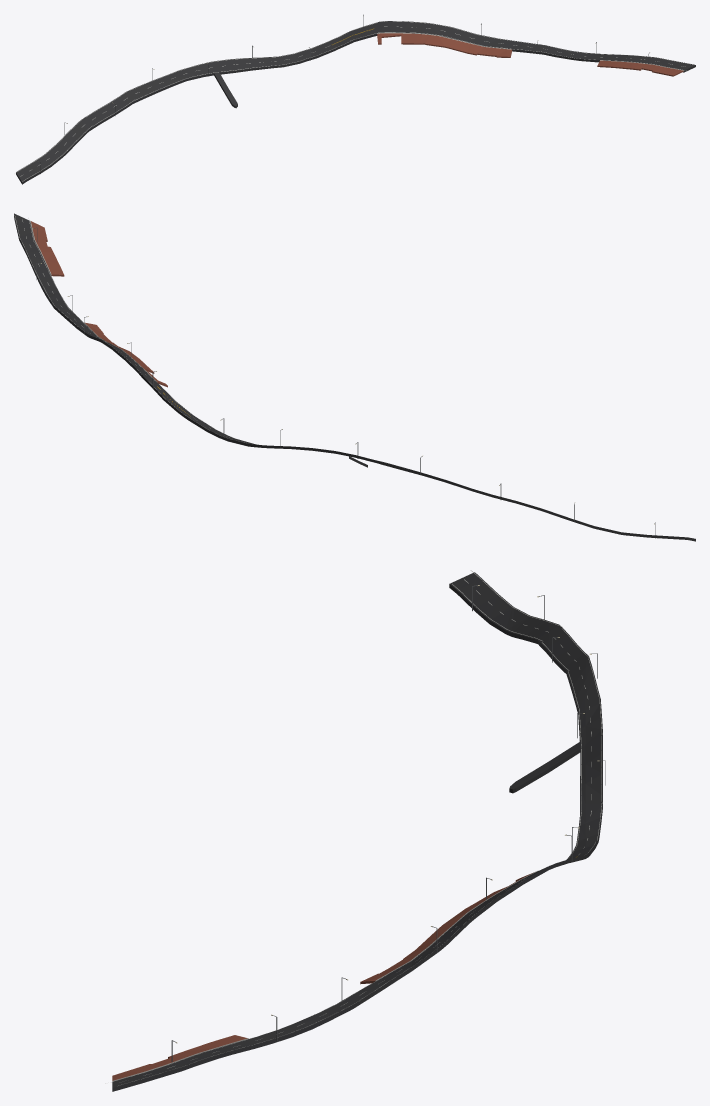
3 views of the same model, one above another, from view 1: azimuth 30°, elevation 25°; view 2: azimuth 150°, elevation 25°; view 3: azimuth 270°, elevation 25° (orthographic). The views are drawn at different scales.
Size of the model in its own units: 373 by 34.44 by 136.
